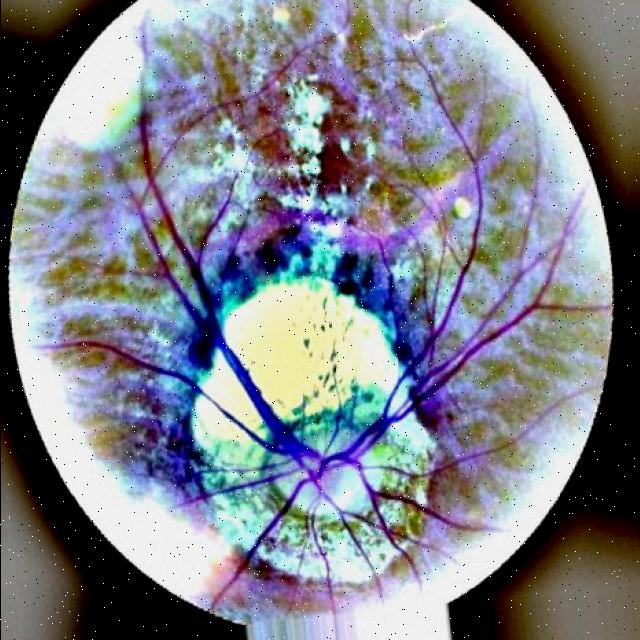Macula: (287, 74, 374, 194)
Nerves: (55, 59, 584, 611), (192, 350, 434, 584), (224, 276, 409, 453)
